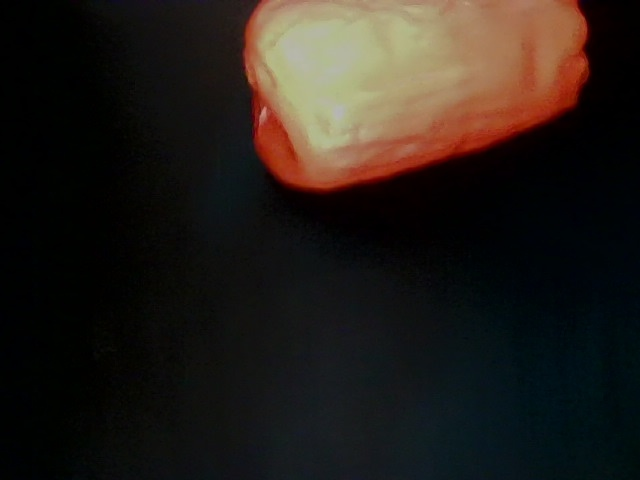KHSLJ: (125, 1, 382, 187)
